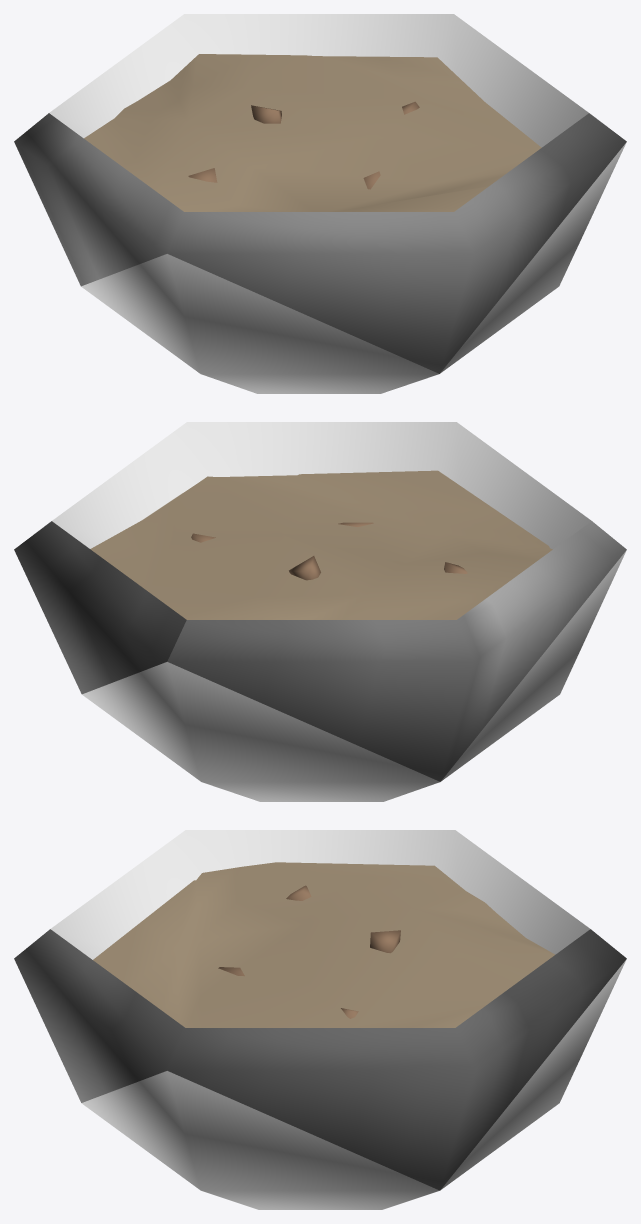
Rendered from pumpkinSoupBowlFired.glb.
The picture shows the model from 3 angles, top to bottom: view 1: azimuth 30°, elevation 25°; view 2: azimuth 150°, elevation 25°; view 3: azimuth 270°, elevation 25°; orthographic projection.
Visible parts, largest first — view 1: Cube; view 2: Cube; view 3: Cube.
Part boxes in pixels (x1,y1,x2,y2): Cube: [14, 14, 626, 393]; Cube: [14, 422, 626, 801]; Cube: [14, 830, 626, 1209].
Bounding box in the file's own units: 0.2467 × 0.1207 × 0.2849.
Materials: 5 (1 with a texture image).
